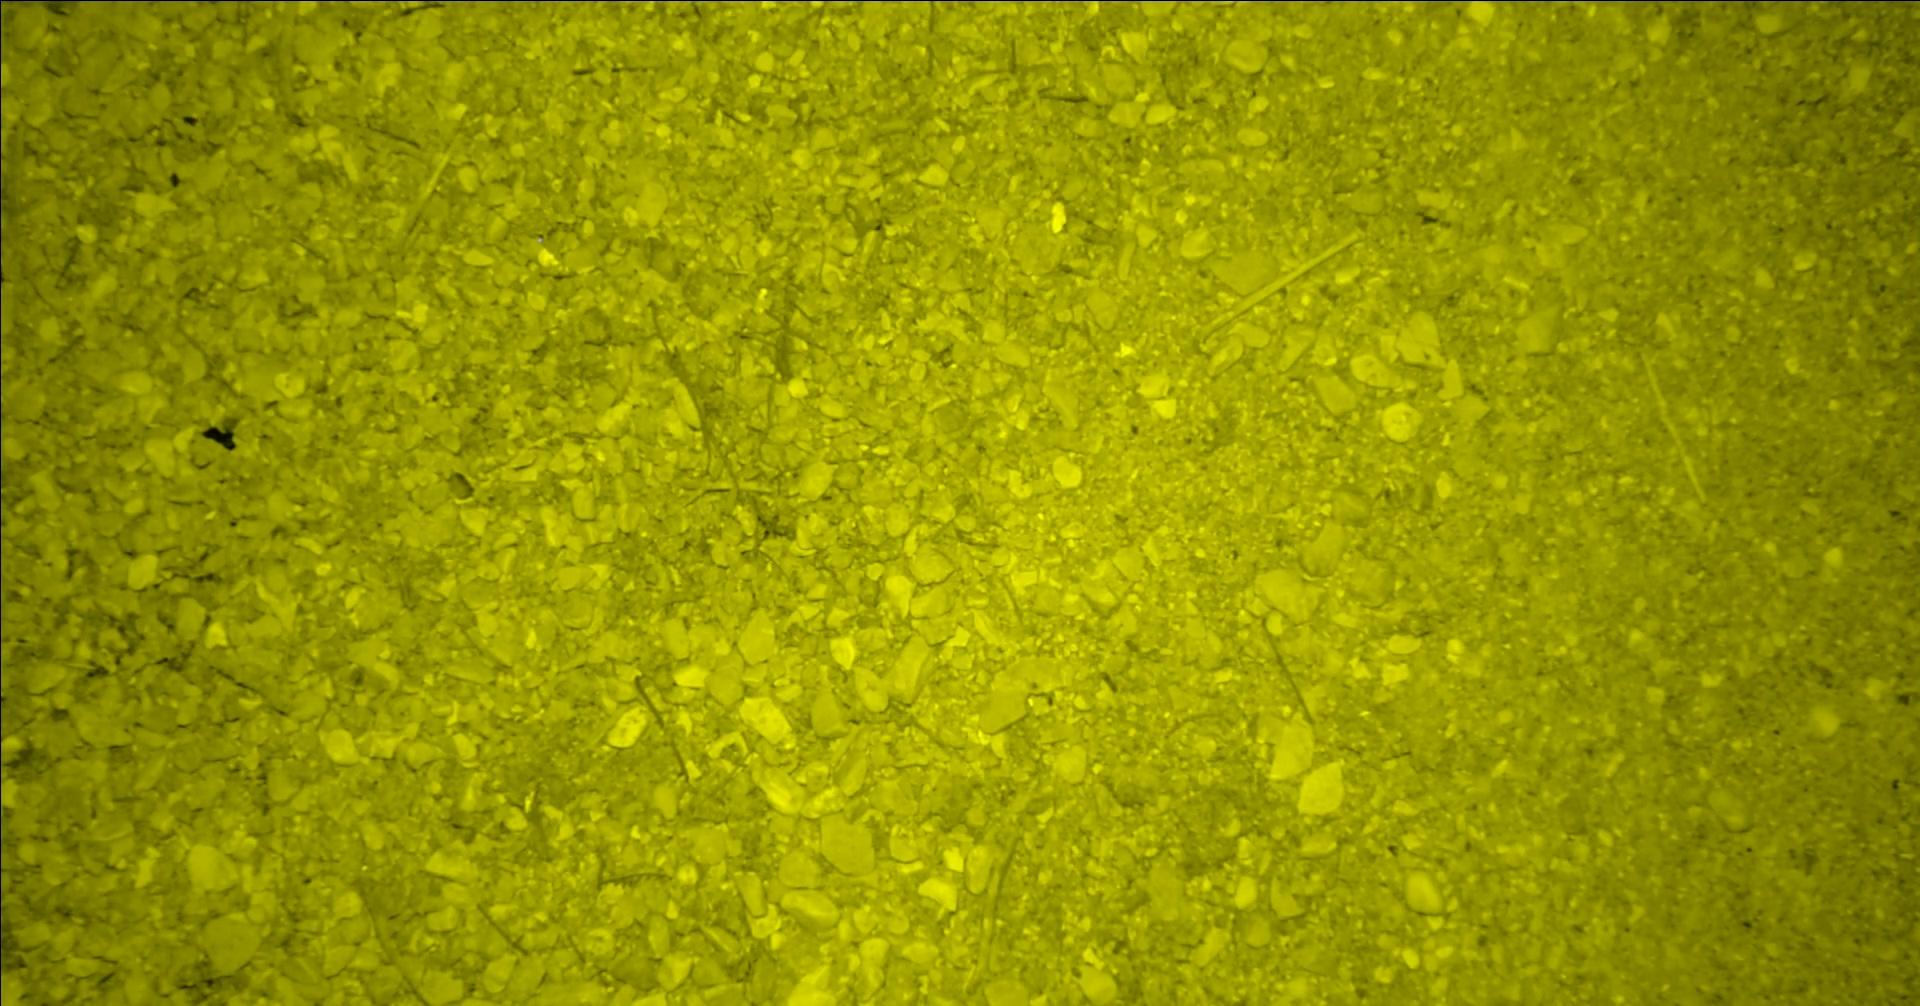ant: (0, 0, 79, 3)
